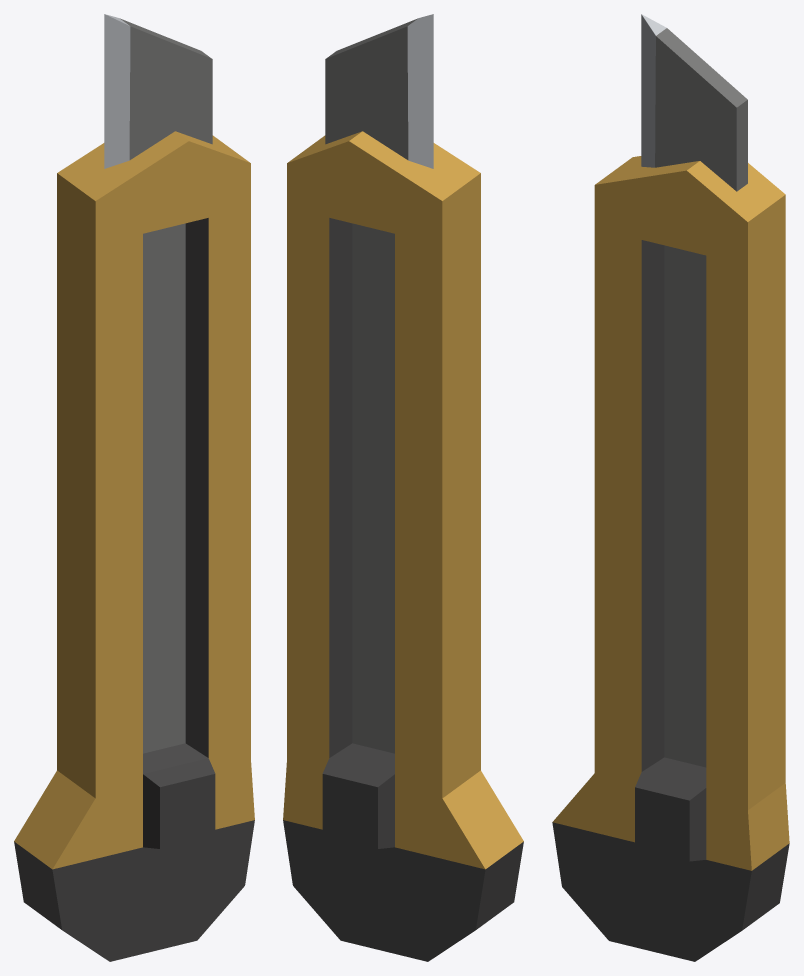
Rendered from SM_Item_Boxcutter_01.fbx.
The picture shows the model from 3 angles, left to right: view 1: azimuth 30°, elevation 25°; view 2: azimuth 150°, elevation 25°; view 3: azimuth 330°, elevation 25°; orthographic projection.
Parts seen in each view (by area): view 1: SM_Item_Boxcutter_01; view 2: SM_Item_Boxcutter_01; view 3: SM_Item_Boxcutter_01.
Part boxes in pixels (<box>): SM_Item_Boxcutter_01: <box>14,14,254,961</box>; SM_Item_Boxcutter_01: <box>283,14,523,961</box>; SM_Item_Boxcutter_01: <box>552,14,789,961</box>.
Size of the model in its own units: 7.84 by 34.44 by 4.16.
